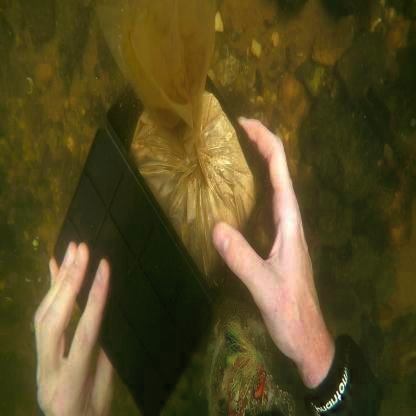pbag: (92, 1, 256, 287)
